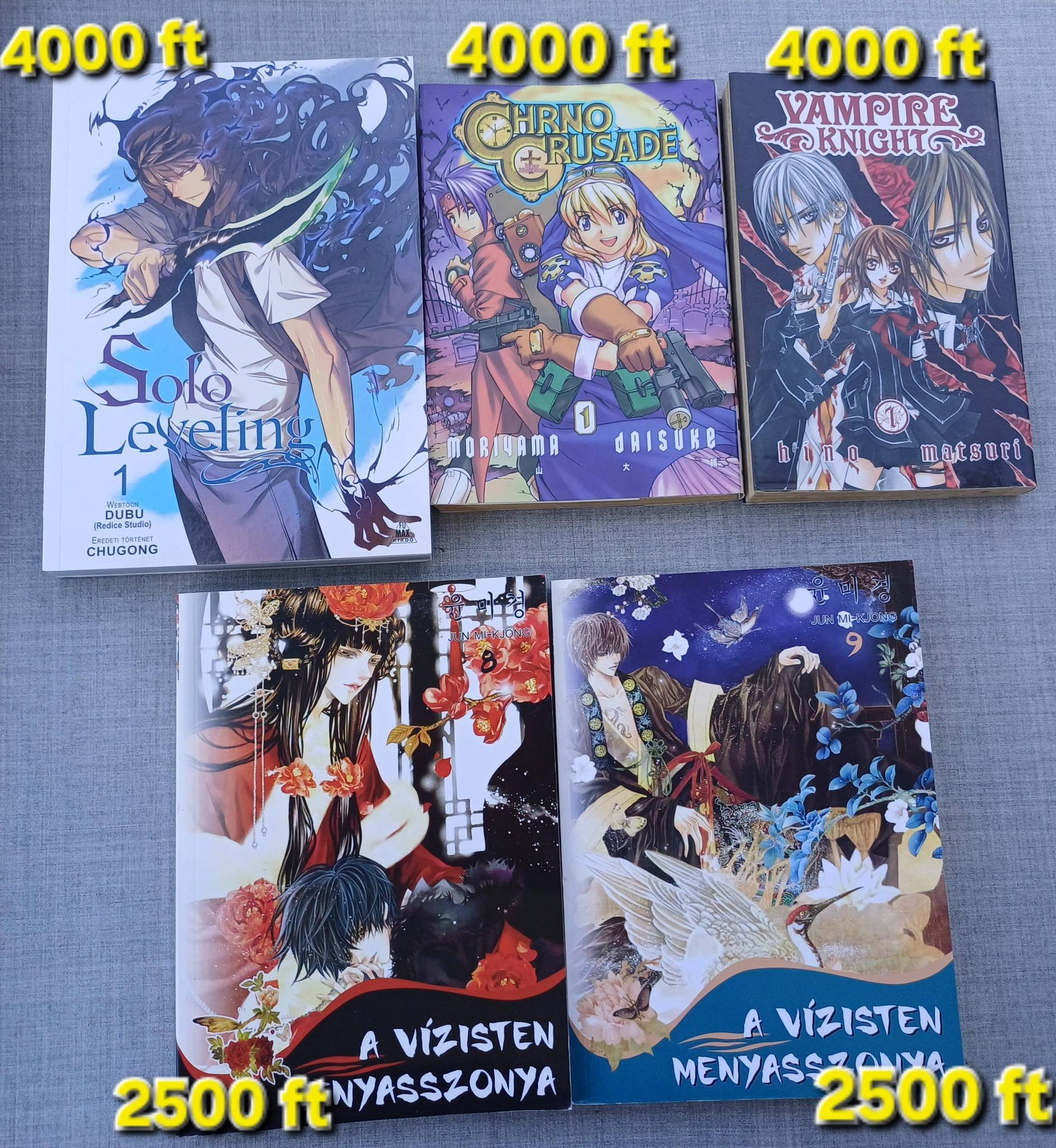comic: (157, 576, 570, 1128), (548, 561, 962, 1108), (25, 57, 432, 575), (721, 57, 1034, 509), (417, 77, 741, 508)
